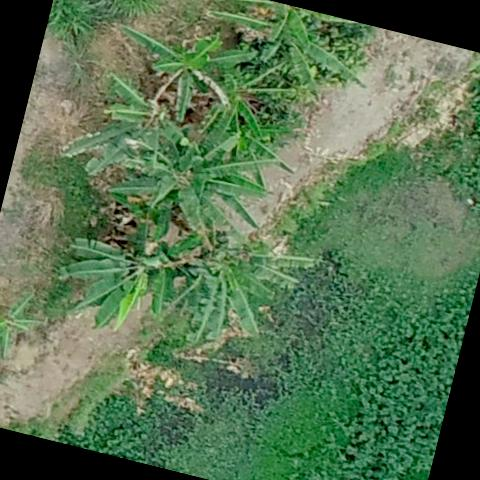Banana-plant: (99, 106, 281, 255), (162, 223, 318, 382), (200, 0, 379, 114), (43, 213, 192, 344), (170, 45, 290, 154), (116, 11, 237, 116), (0, 279, 53, 373)
